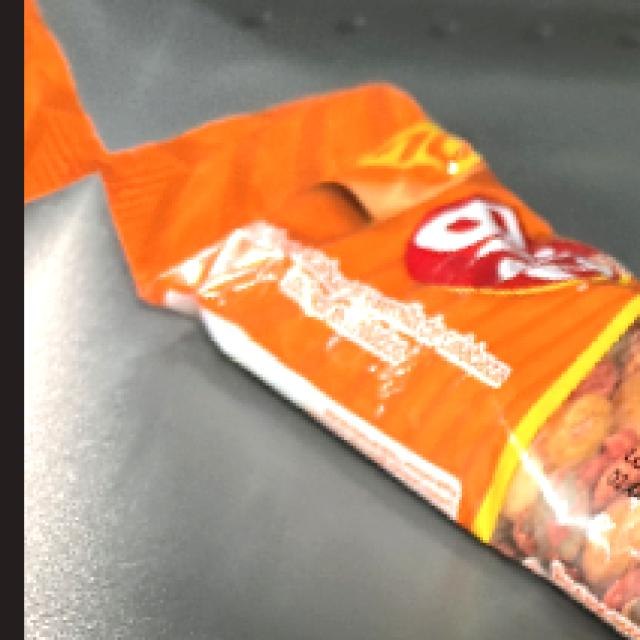bitzEnchilado95: (138, 122, 628, 455)
